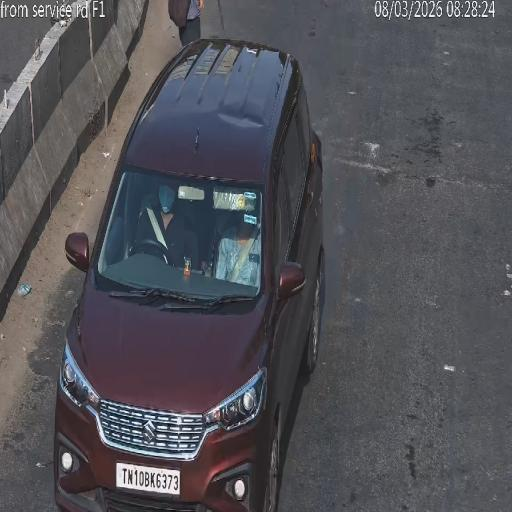person_with_seatbelt: (228, 223, 260, 278), (144, 197, 172, 259)
